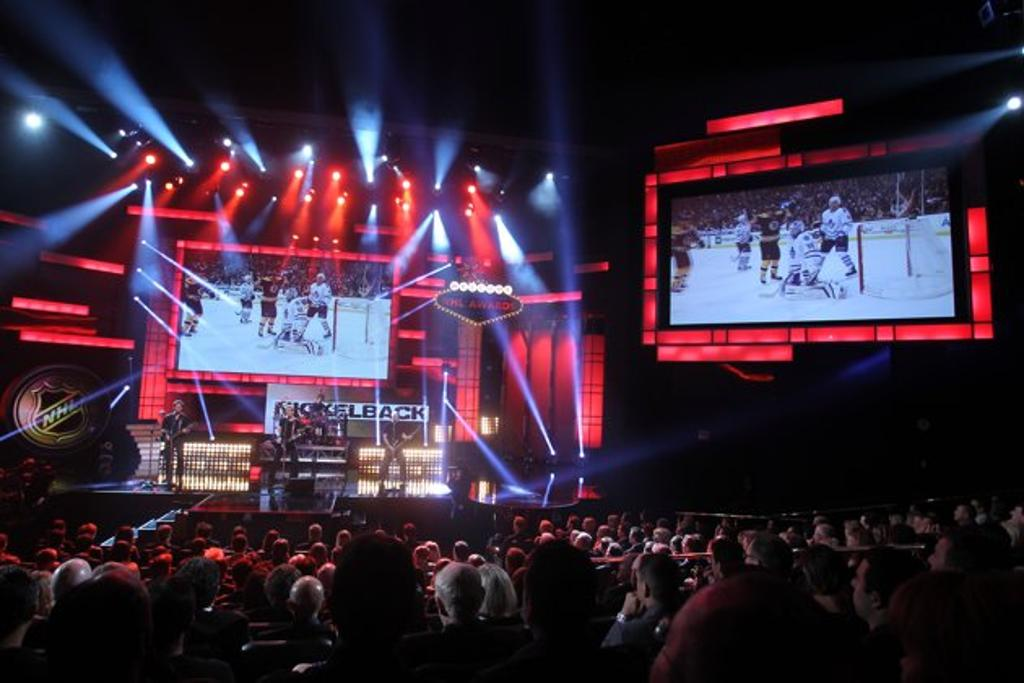face: (829, 200, 838, 208), (174, 403, 182, 411), (285, 408, 292, 416), (393, 413, 399, 421)
